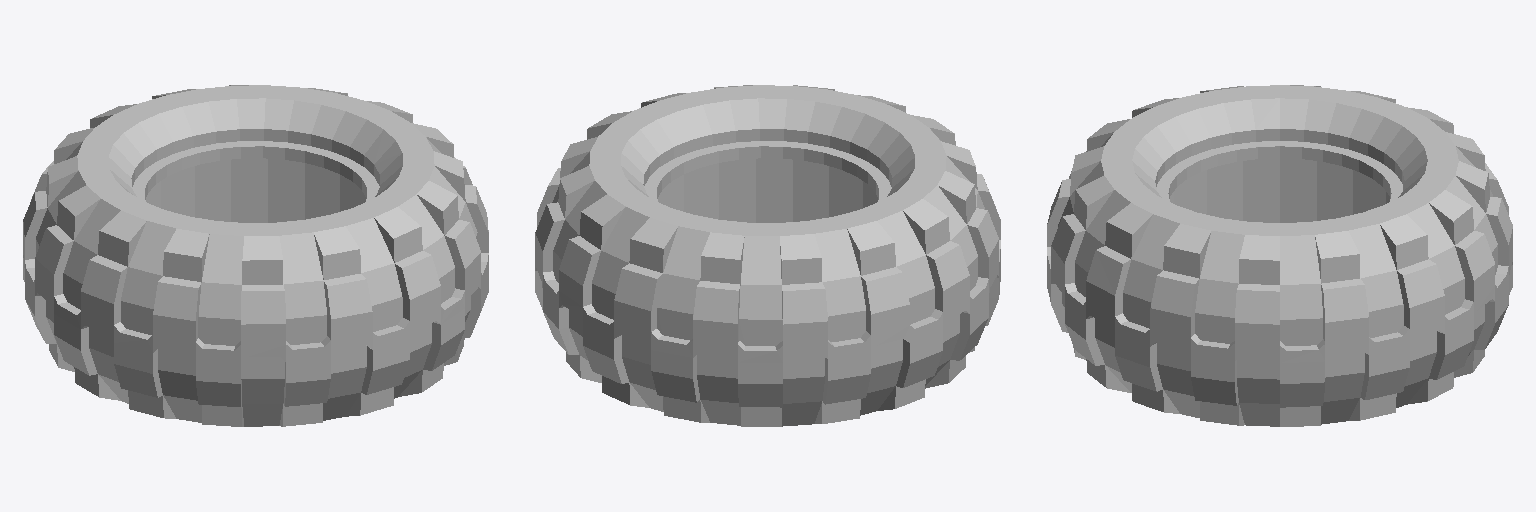
Rendered from Piece011.obj.
3 renders of one model, left to right at view 1: azimuth 30°, elevation 25°; view 2: azimuth 150°, elevation 25°; view 3: azimuth 270°, elevation 25°, orthographic.
Parts seen in each view (by area): view 1: Piece000; view 2: Piece000; view 3: Piece000.
Boxes of the visible parts, x1,y1,x2,y2 form: Piece000: [23, 85, 488, 426]; Piece000: [535, 85, 1000, 426]; Piece000: [1047, 85, 1512, 426].
Size of the model in its own units: 142 by 64 by 142.